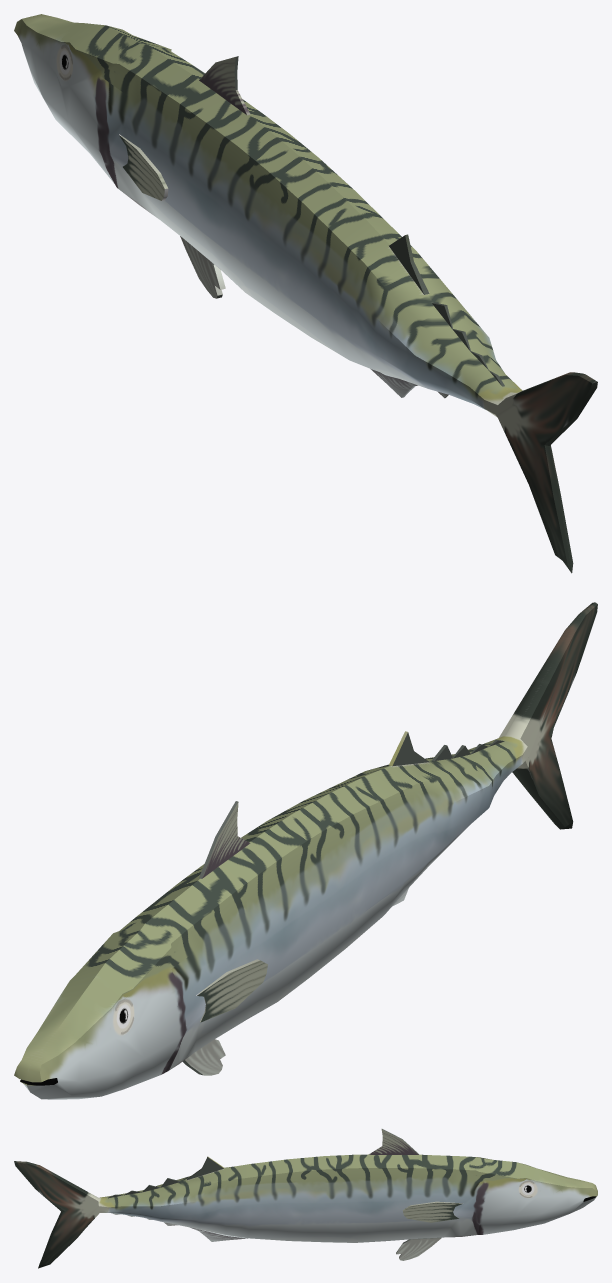
File: Scomber scrombus.fbx
The picture shows the model from 3 angles, top to bottom: view 1: azimuth 30°, elevation 25°; view 2: azimuth 150°, elevation 25°; view 3: azimuth 270°, elevation 25°; orthographic projection. The views are drawn at different scales.
Parts seen in each view (by area): view 1: Scomber_scrombus; view 2: Scomber_scrombus; view 3: Scomber_scrombus.
Part boxes in pixels (x1,y1,x2,y2): Scomber_scrombus: (14,14,597,573); Scomber_scrombus: (14,602,597,1099); Scomber_scrombus: (14,1129,597,1268).
Size of the model in its own units: 47.64 by 120 by 455.
1 material, 1 textured.
